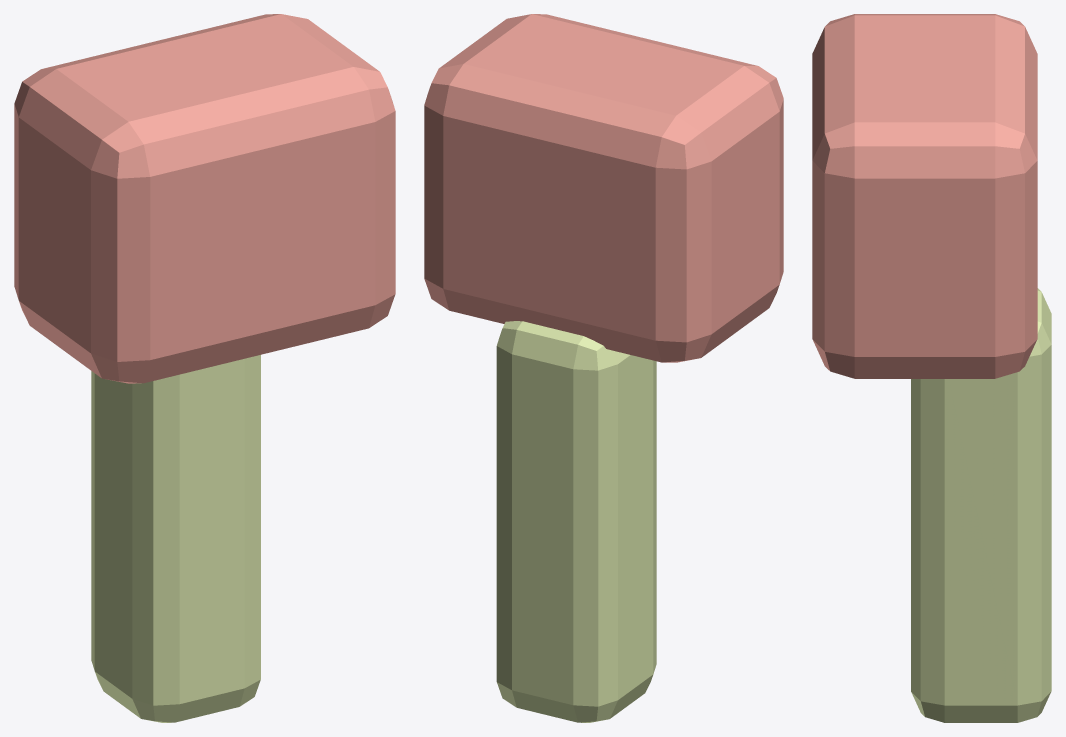
The model's file is насморк.glb.
3 views of the same model, side by side, from view 1: azimuth 30°, elevation 25°; view 2: azimuth 150°, elevation 25°; view 3: azimuth 270°, elevation 25° (orthographic). The views are drawn at different scales.
Parts seen in each view (by area): view 1: насморк; view 2: насморк; view 3: насморк.
Boxes of the visible parts, x1,y1,x2,y2 form: насморк: [14, 14, 395, 722]; насморк: [424, 14, 783, 722]; насморк: [812, 14, 1051, 722].
Size of the model in its own units: 0.12 by 0.25 by 0.085.
